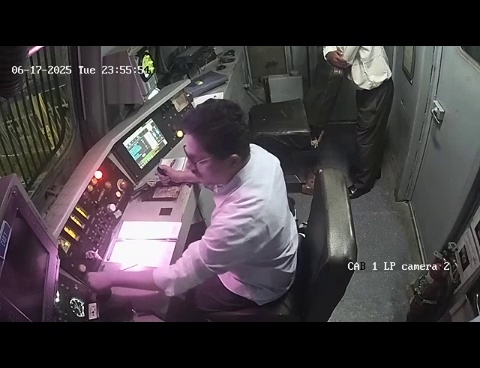horn_active: (71, 263, 126, 317)
